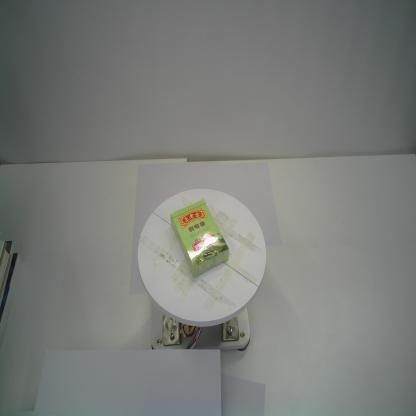Candy: (170, 199, 229, 277)
